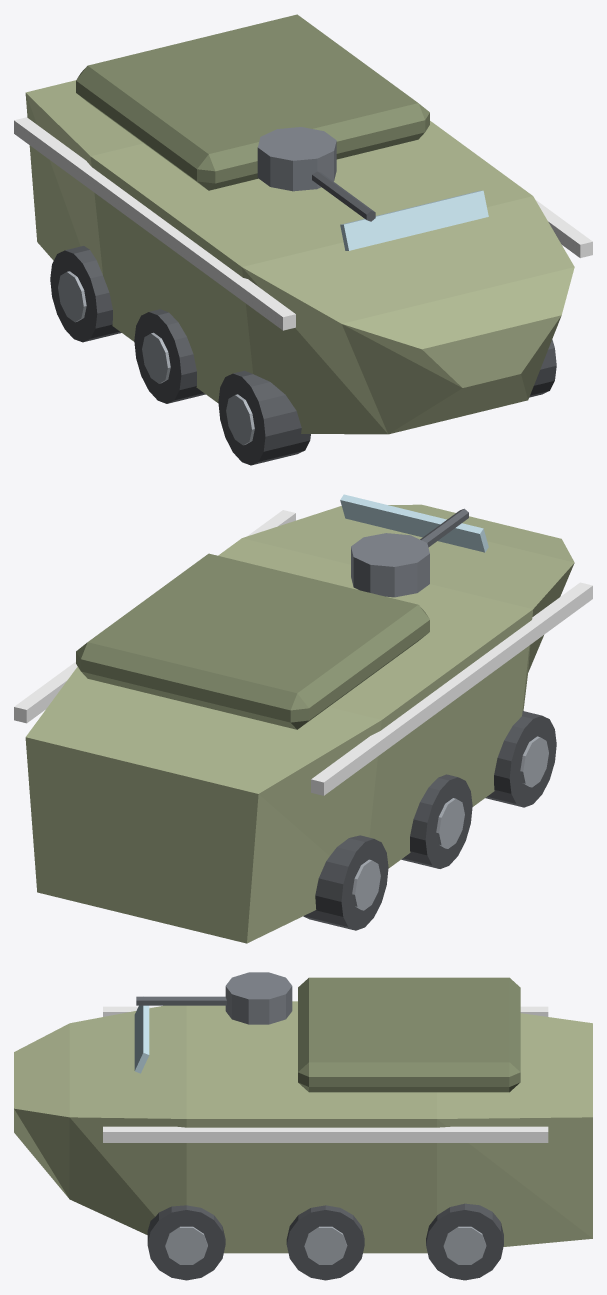
File: amphib.glb
3 views of the same model, one above another, from view 1: azimuth 30°, elevation 25°; view 2: azimuth 150°, elevation 25°; view 3: azimuth 270°, elevation 25° (orthographic). The views are drawn at different scales.
Parts seen in each view (by area): view 1: main, turret; view 2: main, turret; view 3: main, turret.
Part boxes in pixels (x1=…): main: x1=14, y1=14, x2=592, y2=465; turret: x1=257, y1=127, x2=375, y2=221; main: x1=14, y1=494, x2=592, y2=943; turret: x1=351, y1=508, x2=468, y2=597; main: x1=14, y1=977, x2=592, y2=1280; turret: x1=136, y1=972, x2=292, y2=1024.
Bounding box in the file's own units: 0.532 × 0.43 × 1.04.
